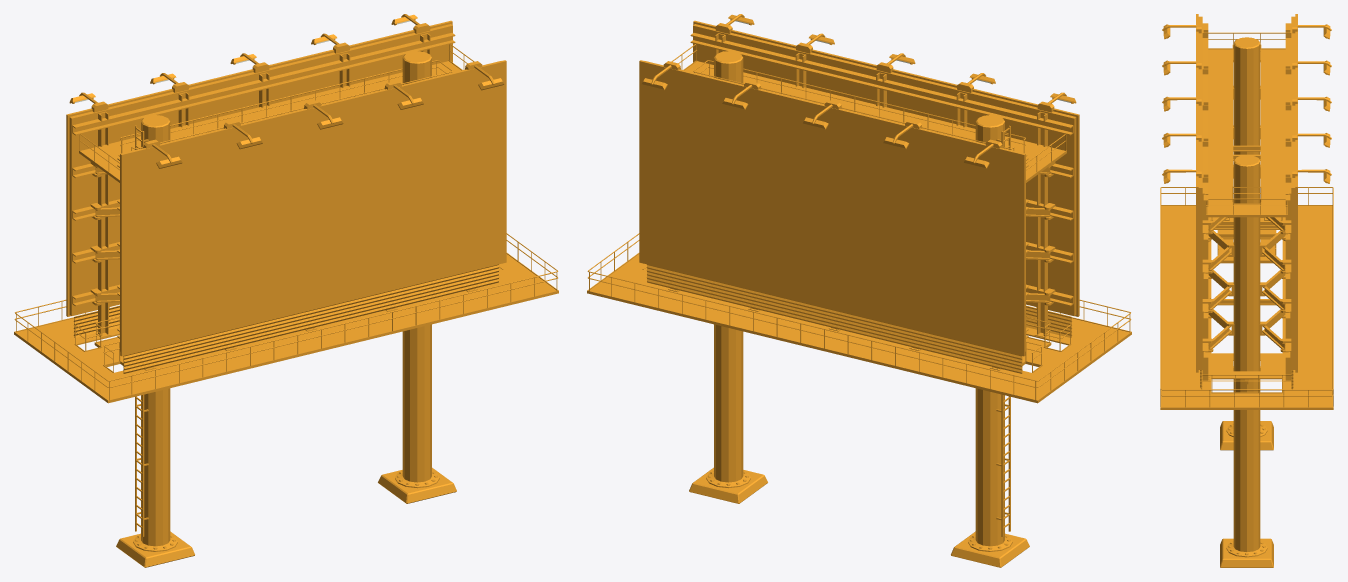
Rendered from SM_Billboard_Big_Color.fbx.
The picture shows the model from 3 angles, left to right: view 1: azimuth 30°, elevation 25°; view 2: azimuth 150°, elevation 25°; view 3: azimuth 270°, elevation 25°; orthographic projection. The views are drawn at different scales.
Visible parts, largest first — view 1: SM_Billboard_Big_Color; view 2: SM_Billboard_Big_Color; view 3: SM_Billboard_Big_Color.
Boxes of the visible parts, bbox=[...] form: SM_Billboard_Big_Color: bbox=[14, 14, 558, 567]; SM_Billboard_Big_Color: bbox=[587, 14, 1131, 567]; SM_Billboard_Big_Color: bbox=[1160, 14, 1333, 567].
Size of the model in its own units: 17.57 by 16.22 by 6.36.
